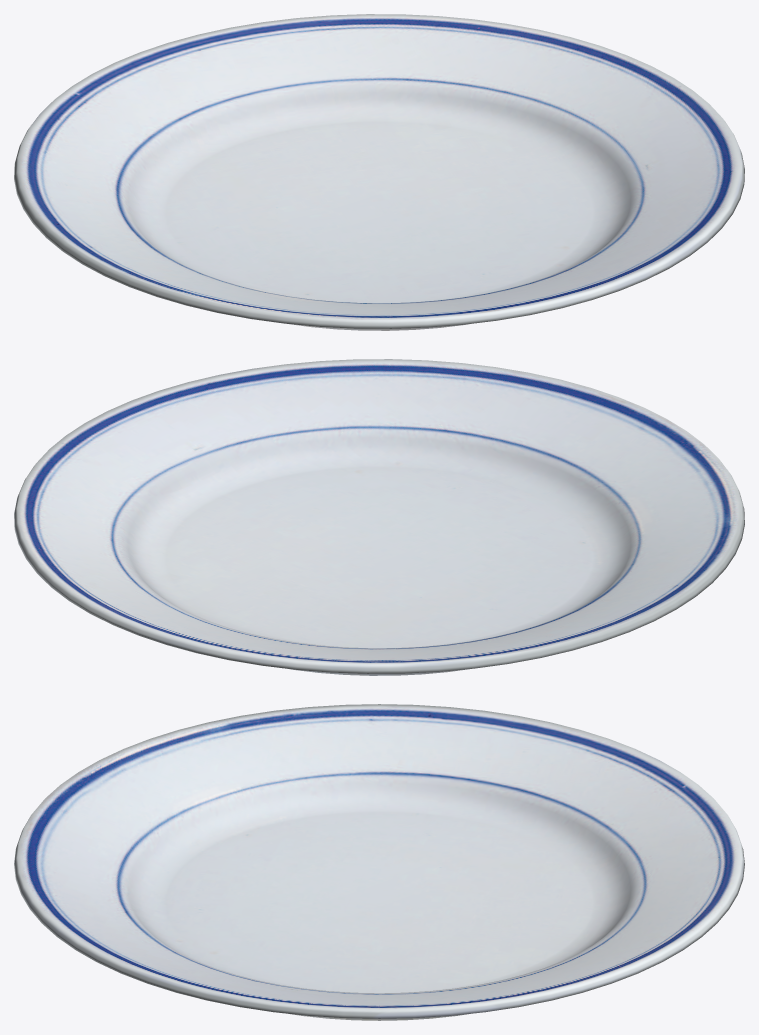
File: SM_WhitePorcelainDish195.fbx
3 renders of one model, top to bottom at view 1: azimuth 30°, elevation 25°; view 2: azimuth 150°, elevation 25°; view 3: azimuth 270°, elevation 25°, orthographic.
Visible parts, largest first — view 1: SM_WhitePorcelainDish195; view 2: SM_WhitePorcelainDish195; view 3: SM_WhitePorcelainDish195.
Part boxes in pixels (x1=…): SM_WhitePorcelainDish195: x1=14, y1=14, x2=744, y2=330; SM_WhitePorcelainDish195: x1=14, y1=359, x2=744, y2=675; SM_WhitePorcelainDish195: x1=14, y1=704, x2=744, y2=1020.
Bounding box in the file's own units: 20.12 × 1.89 × 20.12.
1 material, 1 textured.
